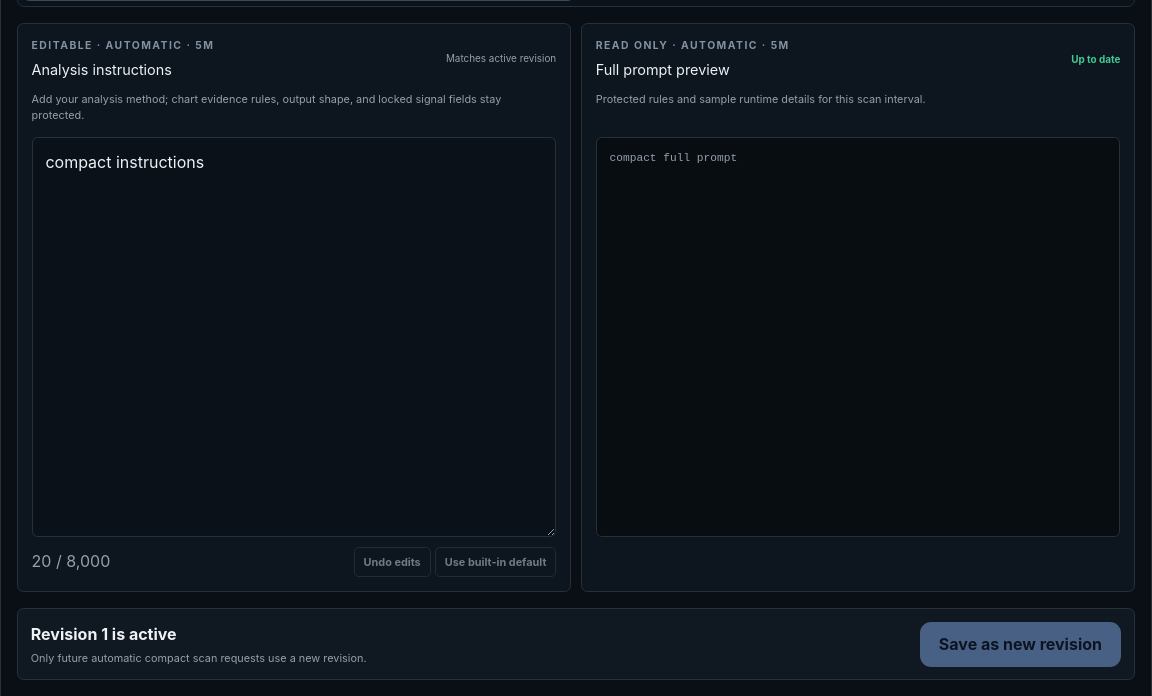
Scenario: prompt studio › shows the full prompt immediately and keeps it synchronized with the draft
(page scrolled)
Expected: the text named "Full prompt preview for Compact scan" reads "compact full prompt", [610,152,737,164]
Expected: the button "Save as new revision" is disabled, [920,622,1121,667]
Replace the text in the text box named "Analysis instructions for Compact scan" with "changed instructions" at (294, 337), box [32,137,556,537]
(page scrolled)
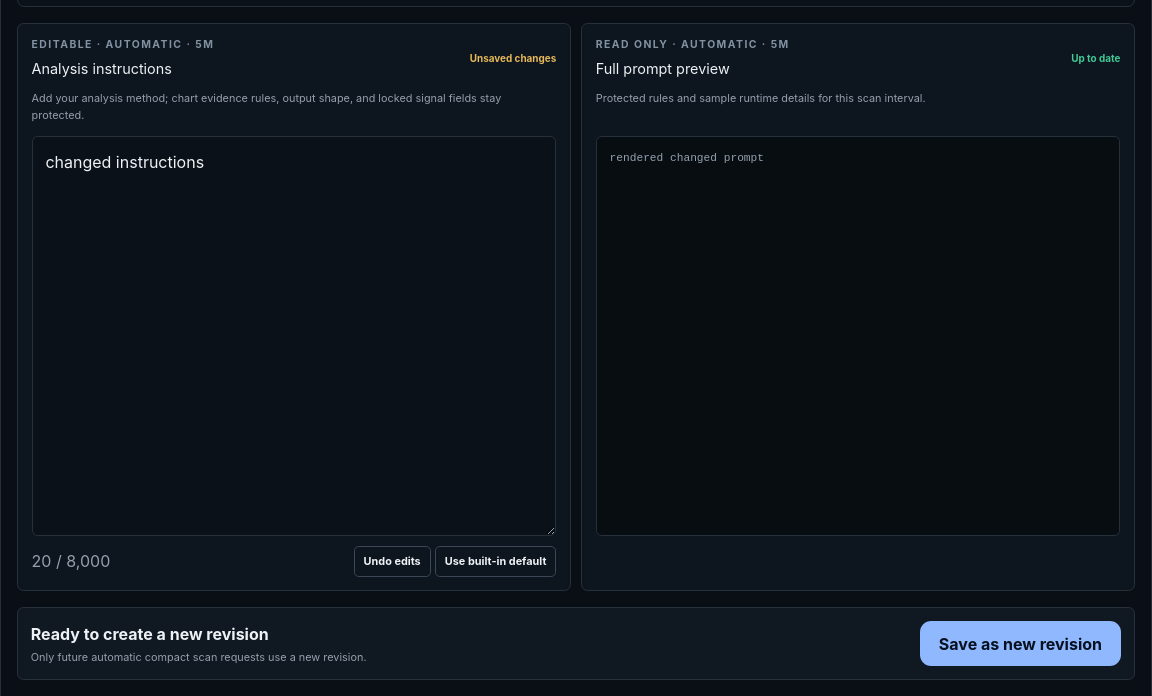
Expected: the text named "Full prompt preview for Compact scan" reads "rendered changed prompt", [610,152,764,164]
Expected: the button "Save as new revision" is enabled, [920,621,1121,666]
